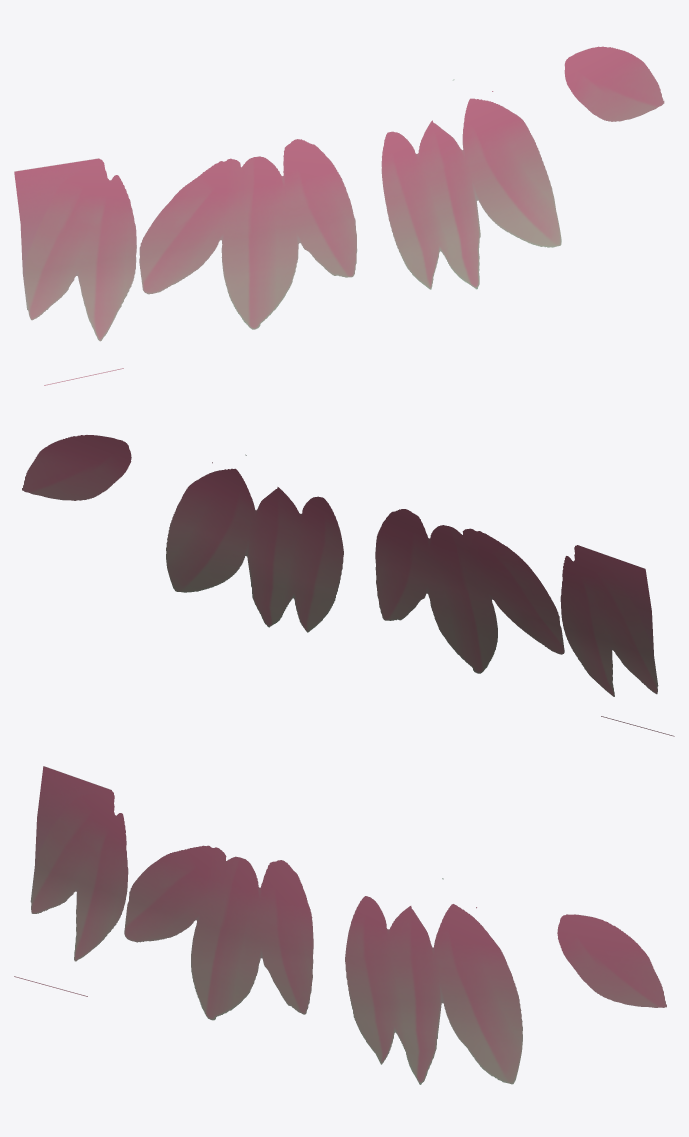
File: M_plante_arbre_1.FBX
The picture shows the model from 3 angles, top to bottom: view 1: azimuth 30°, elevation 25°; view 2: azimuth 150°, elevation 25°; view 3: azimuth 330°, elevation 25°; orthographic projection.
Visible parts, largest first — view 1: Plane187; view 2: Plane187; view 3: Plane187.
Boxes of the visible parts, box(x1,y1,x2,y2) form: Plane187: box(14, 46, 664, 385); Plane187: box(22, 435, 674, 736); Plane187: box(14, 766, 666, 1084).
Size of the model in its own units: 475 by 137 by 54.21.
